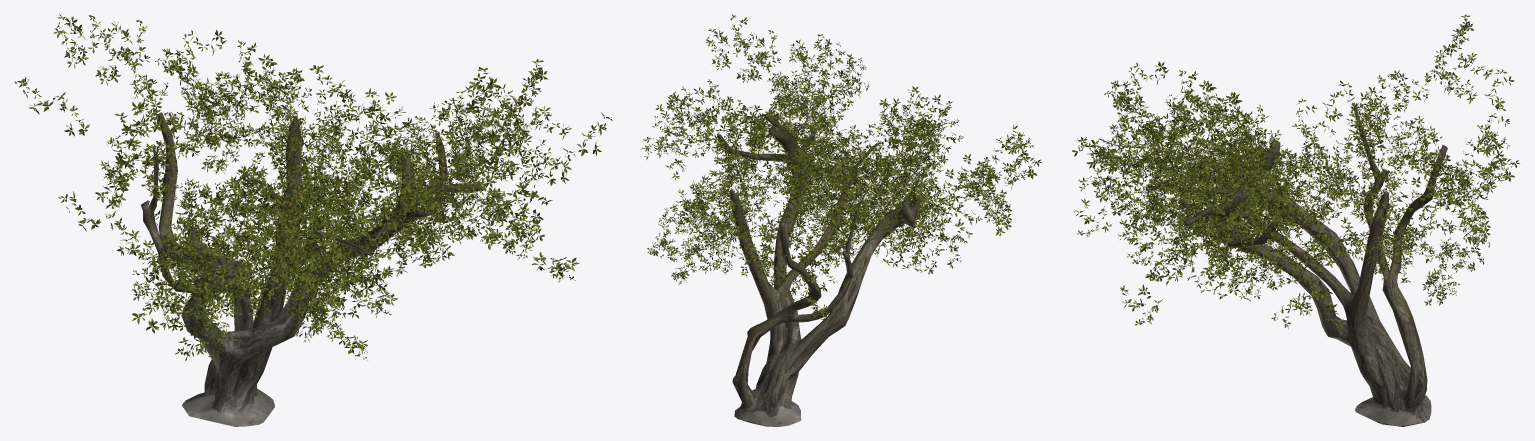
3 views of the same model, side by side, from view 1: azimuth 30°, elevation 25°; view 2: azimuth 150°, elevation 25°; view 3: azimuth 270°, elevation 25° (orthographic). The views are drawn at different scales.
Parts seen in each view (by area): view 1: island_tree_02_LOD0; view 2: island_tree_02_LOD0; view 3: island_tree_02_LOD0.
Boxes of the visible parts, left/top/right/bottom form: island_tree_02_LOD0: left=15, top=14, right=612, bottom=426; island_tree_02_LOD0: left=641, top=14, right=1041, bottom=426; island_tree_02_LOD0: left=1072, top=14, right=1519, bottom=426.
Bounding box in the file's own units: 3.87 × 3.41 × 4.07.
3 materials, 3 textured.
